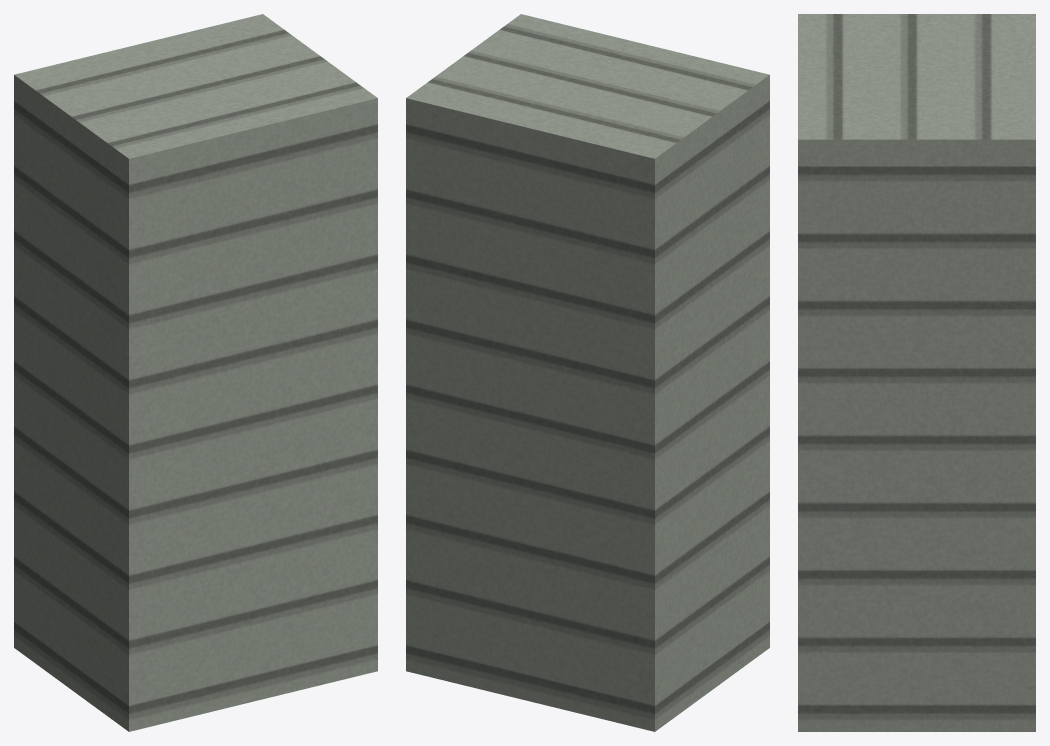
Rendered from ticket_taker_podium.glb.
3 renders of one model, left to right at view 1: azimuth 30°, elevation 25°; view 2: azimuth 150°, elevation 25°; view 3: azimuth 270°, elevation 25°, orthographic. The views are drawn at different scales.
Parts seen in each view (by area): view 1: ticket_taker_podium-col; view 2: ticket_taker_podium-col; view 3: ticket_taker_podium-col.
Part boxes in pixels (box(x1,y1,x2,y2)): ticket_taker_podium-col: box(14, 14, 377, 731); ticket_taker_podium-col: box(406, 14, 769, 731); ticket_taker_podium-col: box(798, 14, 1035, 731).
Bounding box in the file's own units: 0.5 × 1.1 × 0.4.
1 material, 1 textured.
